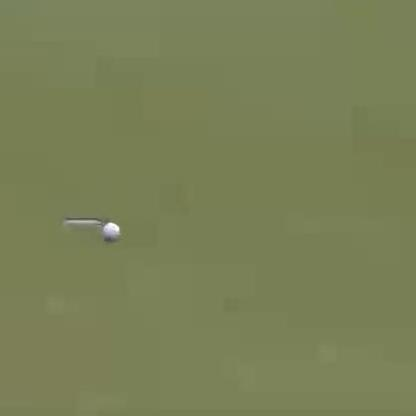golfball: (100, 221, 120, 241)
